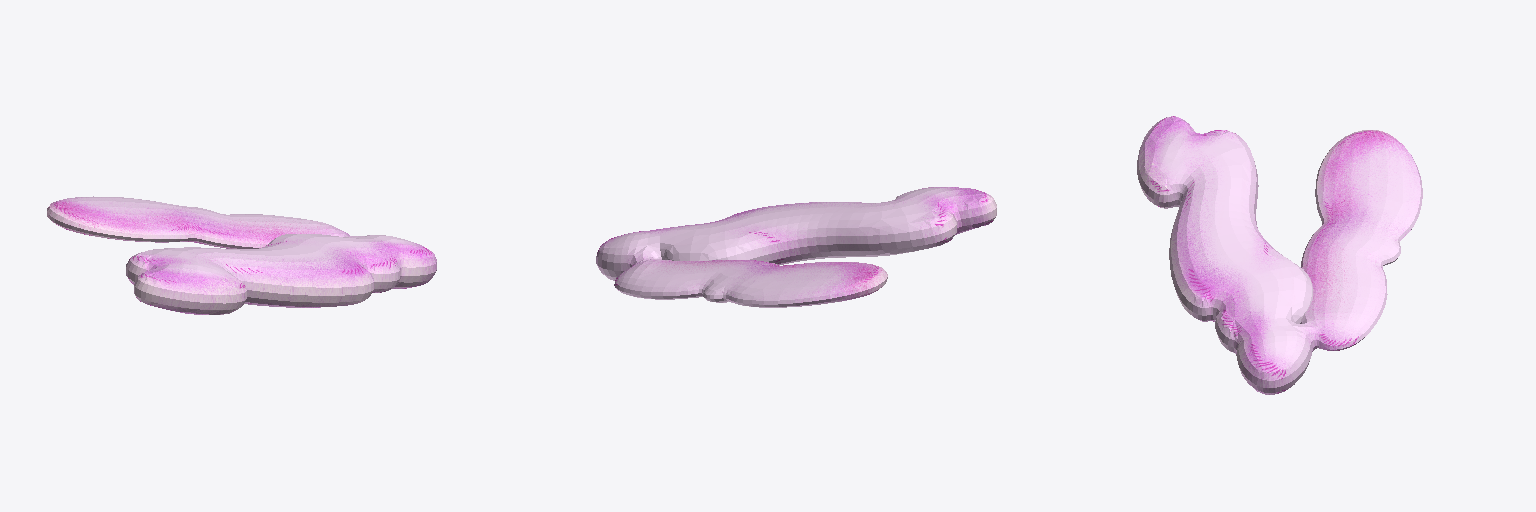
The picture shows the model from 3 angles: view 1: azimuth 30°, elevation 25°; view 2: azimuth 150°, elevation 25°; view 3: azimuth 270°, elevation 25°; orthographic projection.
Visible parts, largest first — view 1: Cloud_C; view 2: Cloud_C; view 3: Cloud_C.
Boxes of the visible parts, x1,y1,x2,y2 form: Cloud_C: [47, 196, 436, 314]; Cloud_C: [596, 187, 996, 307]; Cloud_C: [1137, 116, 1422, 394].
Bounding box in the file's own units: 1.11 × 0.3663 × 0.7907.
Materials: 1 (1 with a texture image).